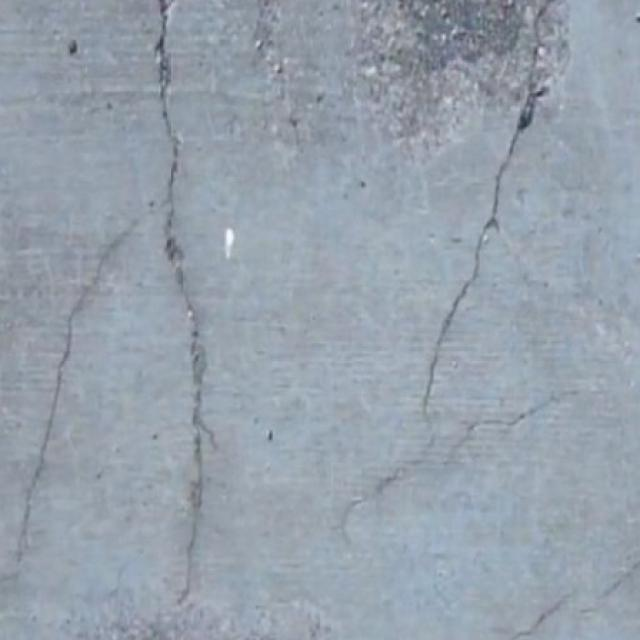Diagonal Crack: (435, 387, 591, 463)
Vertical Crack: (331, 5, 559, 558), (19, 0, 219, 615)
